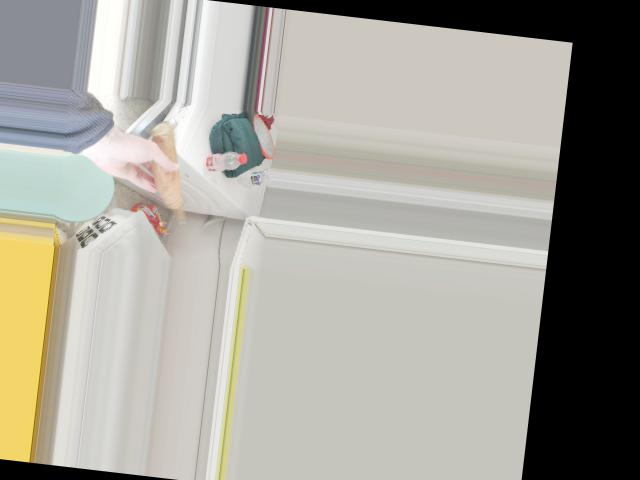sweet_potato: (138, 125, 199, 221)
